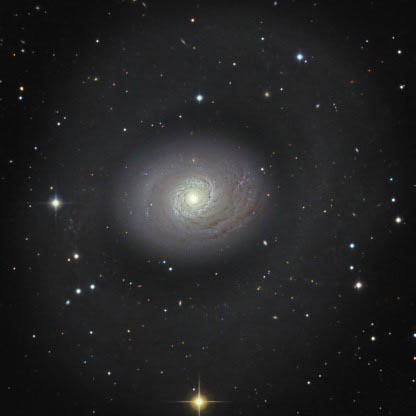Messier 94: (40, 42, 330, 360)
